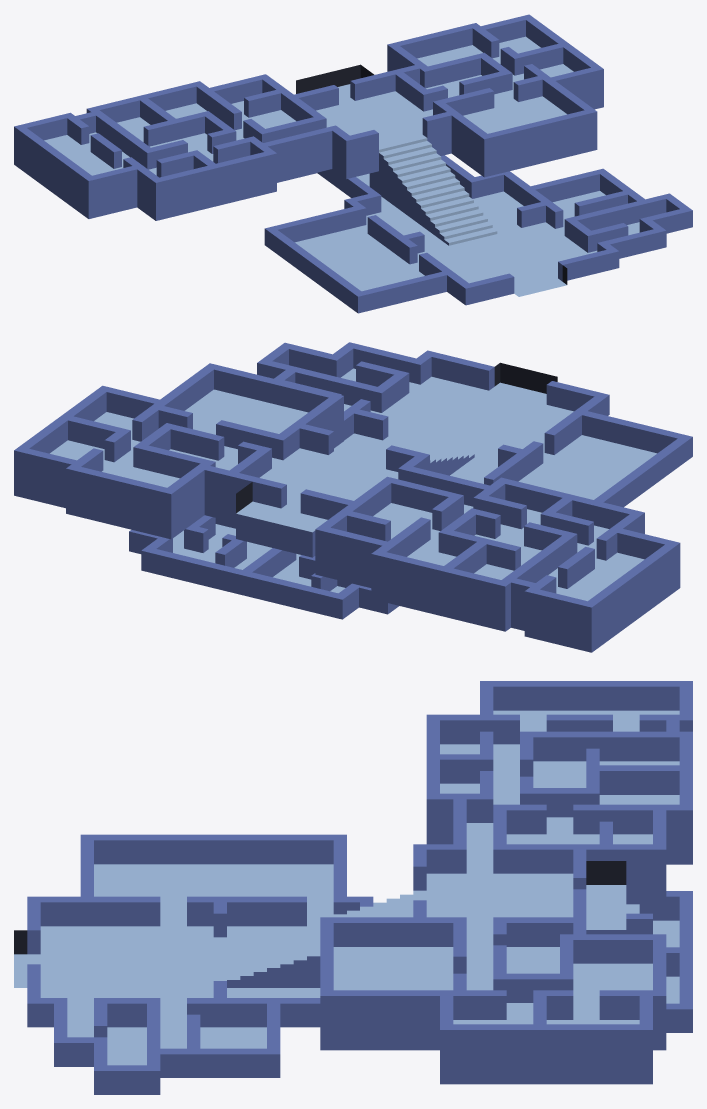
The model's file is test_mansion.fbx.
3 views of the same model, one above another, from view 1: azimuth 30°, elevation 25°; view 2: azimuth 150°, elevation 25°; view 3: azimuth 270°, elevation 25° (orthographic). The views are drawn at different scales.
Visible parts, largest first — view 1: Floor02, Floor01, Floor02_Walls, Floor01_Walls, Floor02_ExtBounds; view 2: Floor02, Floor01, Floor02_Walls, Floor01_Walls, Floor01_ExtBounds; view 3: Floor02, Floor01, Floor02_Walls, Floor01_Walls, Floor02_ExtBounds.
Part boxes in pixels (x1,y1,x2,y2): Floor02: [14, 14, 603, 220]; Floor01: [264, 155, 692, 313]; Floor02_Walls: [72, 29, 563, 177]; Floor01_Walls: [367, 171, 641, 275]; Floor02_ExtBounds: [296, 64, 374, 93]; Floor02: [14, 363, 680, 652]; Floor01: [129, 342, 692, 619]; Floor02_Walls: [68, 403, 617, 593]; Floor01_Walls: [184, 361, 581, 591]; Floor01_ExtBounds: [494, 362, 557, 393]; Floor02: [320, 681, 692, 1084]; Floor01: [14, 834, 692, 1094]; Floor02_Walls: [426, 714, 679, 1024]; Floor01_Walls: [94, 896, 679, 1048]; Floor02_ExtBounds: [586, 861, 626, 884].
Bounding box in the file's own units: 18788 × 2200 × 15455.
